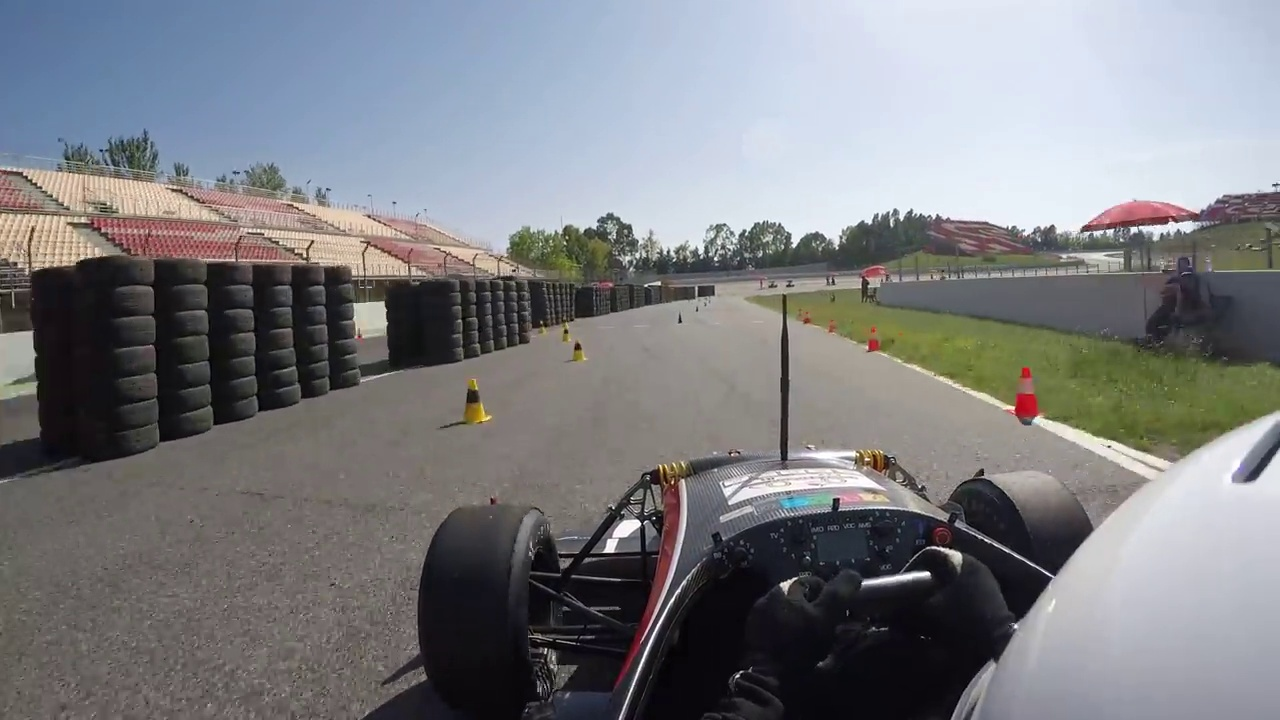Cone: (1009, 366, 1045, 418), (463, 376, 488, 425)
